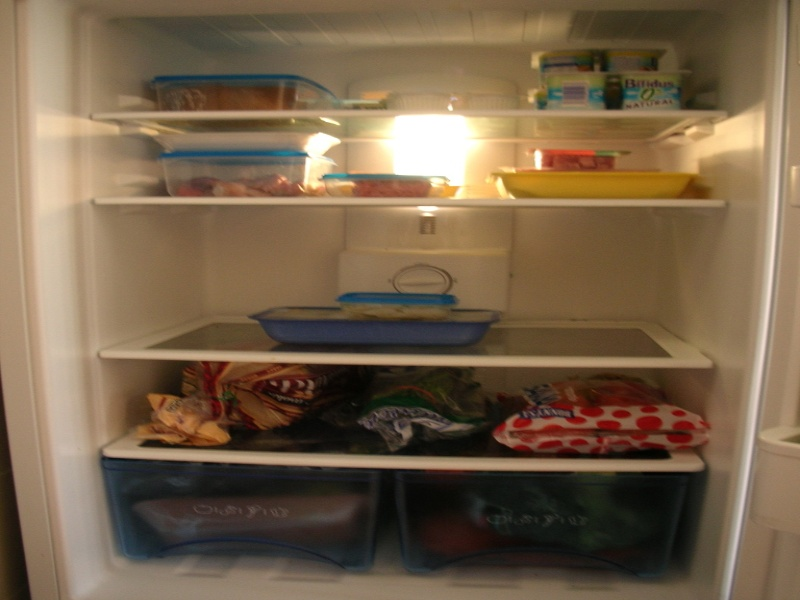refrigerator: (3, 4, 793, 600)
